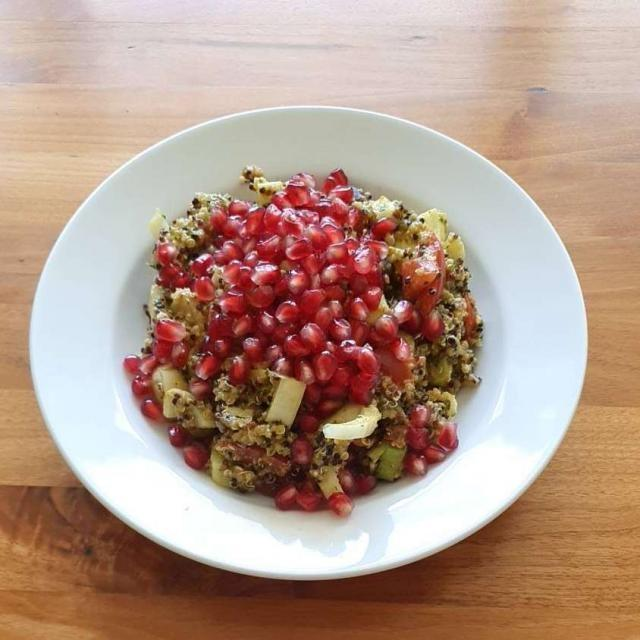cheese: (262, 198, 466, 426)
pomegranate: (124, 168, 470, 502)
